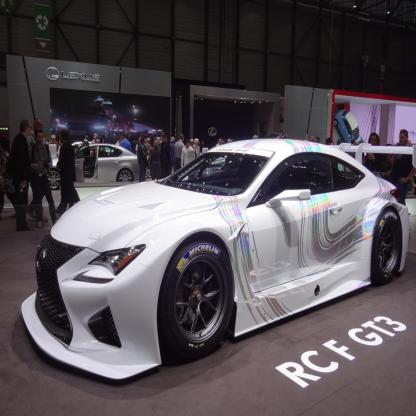Car: (21, 140, 410, 380), (46, 143, 150, 192)
